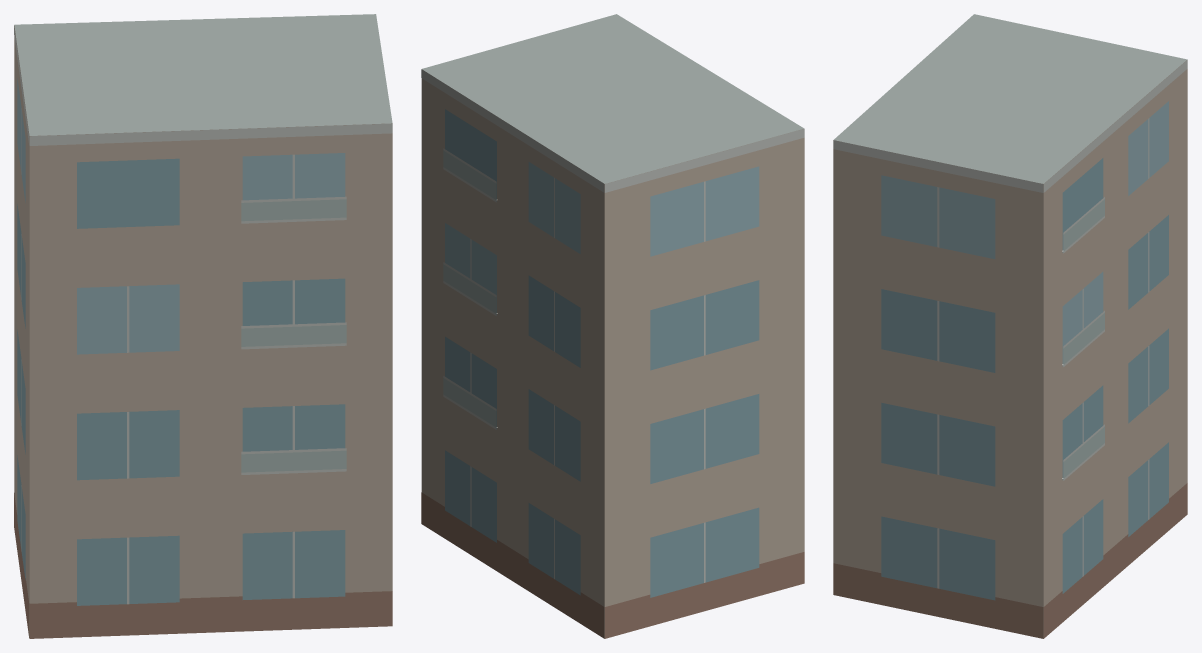
Rendered from survey-upis-32734738.glb.
3 views of the same model, side by side, from view 1: azimuth 30°, elevation 25°; view 2: azimuth 150°, elevation 25°; view 3: azimuth 270°, elevation 25° (orthographic). The views are drawn at different scales.
Parts seen in each view (by area): view 1: survey-upis-32734738.tmp; view 2: survey-upis-32734738.tmp; view 3: survey-upis-32734738.tmp.
Boxes of the visible parts, x1,y1,x2,y2 form: survey-upis-32734738.tmp: (14,14,392,638); survey-upis-32734738.tmp: (421,14,804,638); survey-upis-32734738.tmp: (833,14,1187,638).
Size of the model in its own units: 9.79 by 12.2 by 8.62.
